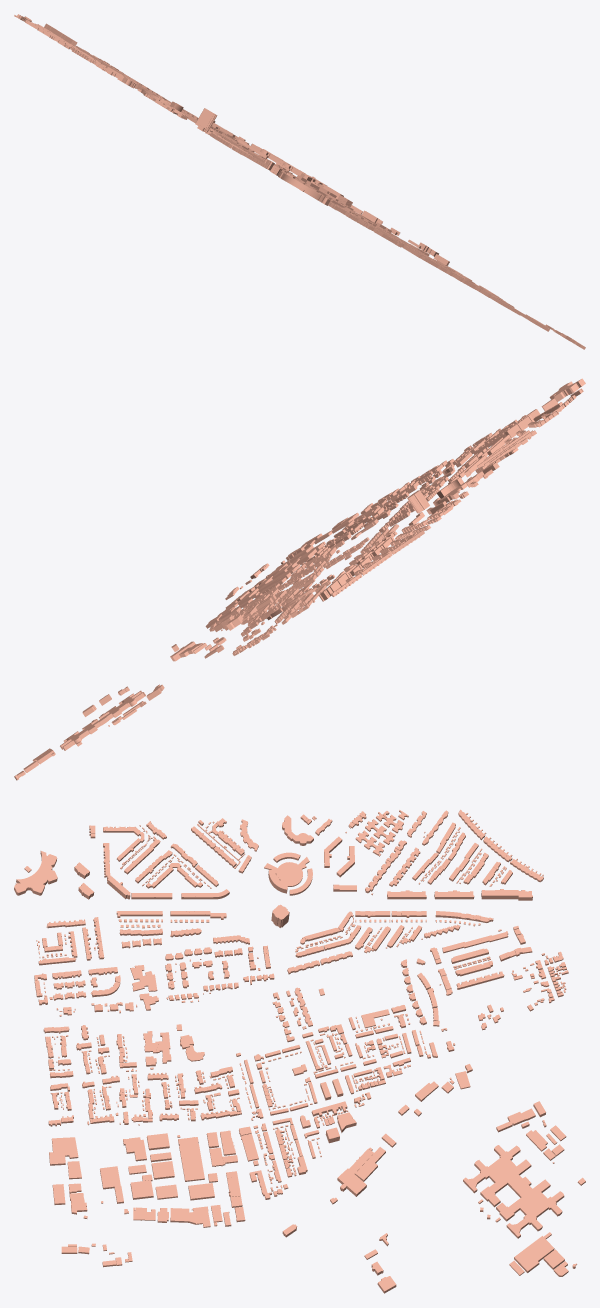
The picture shows the model from 3 angles, top to bottom: view 1: azimuth 30°, elevation 25°; view 2: azimuth 150°, elevation 25°; view 3: azimuth 270°, elevation 25°; orthographic projection.
Size of the model in its own units: 986 by 758 by 1295.
